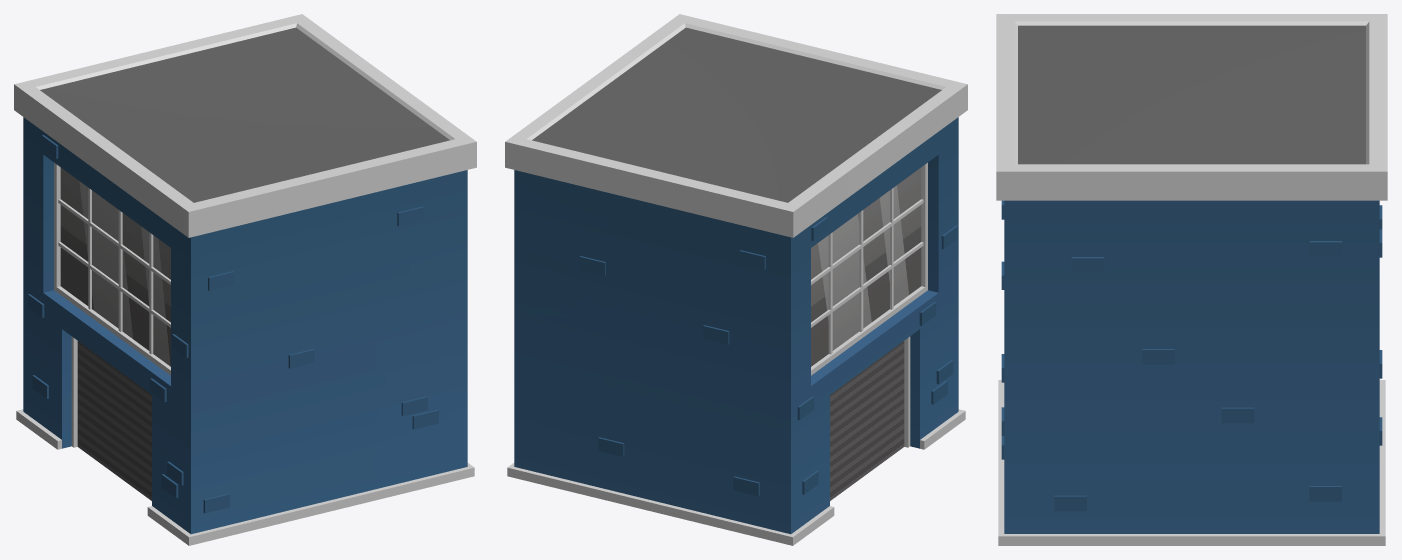
File: Building_10_K.fbx
3 renders of one model, left to right at view 1: azimuth 30°, elevation 25°; view 2: azimuth 150°, elevation 25°; view 3: azimuth 270°, elevation 25°, orthographic. The views are drawn at different scales.
Visible parts, largest first — view 1: Building_10_K; view 2: Building_10_K; view 3: Building_10_K.
Boxes of the visible parts, left/top/right/bottom form: Building_10_K: left=14, top=14, right=476, bottom=545; Building_10_K: left=505, top=14, right=967, bottom=545; Building_10_K: left=996, top=14, right=1387, bottom=545.
Bounding box in the file's own units: 526 × 584 × 552.
